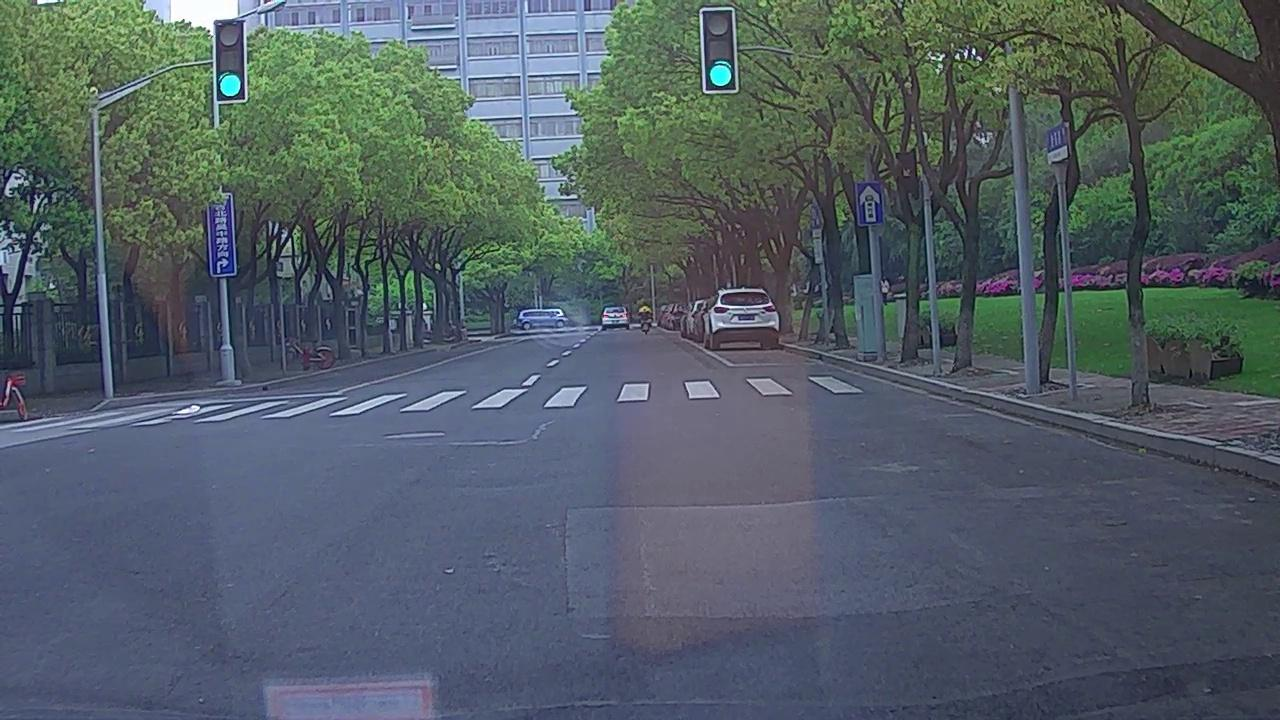traffic_light: (704, 5, 737, 92), (217, 22, 247, 101)
